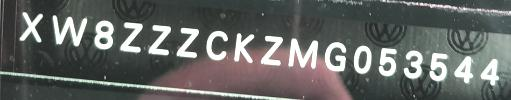letter: (51, 12, 89, 49), (287, 36, 320, 70), (16, 9, 46, 44), (147, 23, 173, 55), (258, 33, 284, 65), (232, 30, 256, 64), (323, 40, 348, 72), (118, 20, 143, 52), (175, 26, 200, 58), (204, 28, 229, 60), (426, 50, 450, 83), (92, 19, 115, 50), (350, 43, 372, 75), (402, 48, 424, 79), (478, 55, 500, 86), (376, 46, 398, 76), (452, 54, 474, 83)
